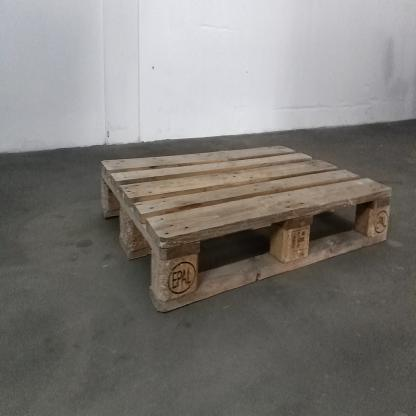BoxFace: (98, 138, 394, 321)
